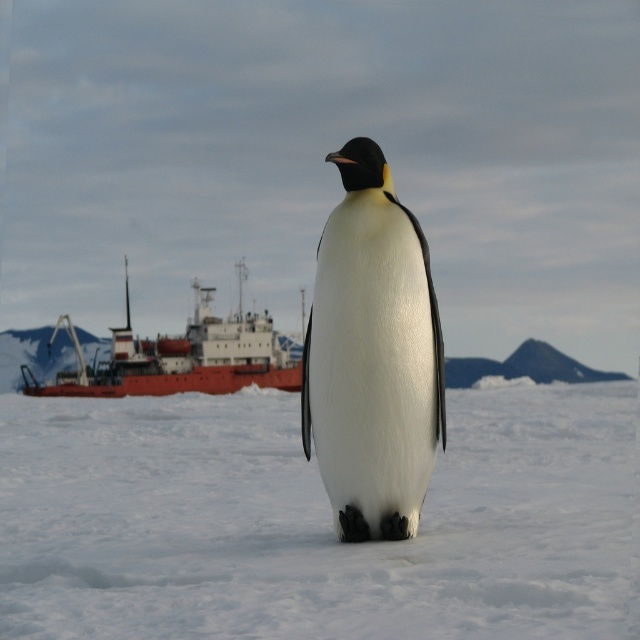Penguin: (301, 137, 448, 543)
